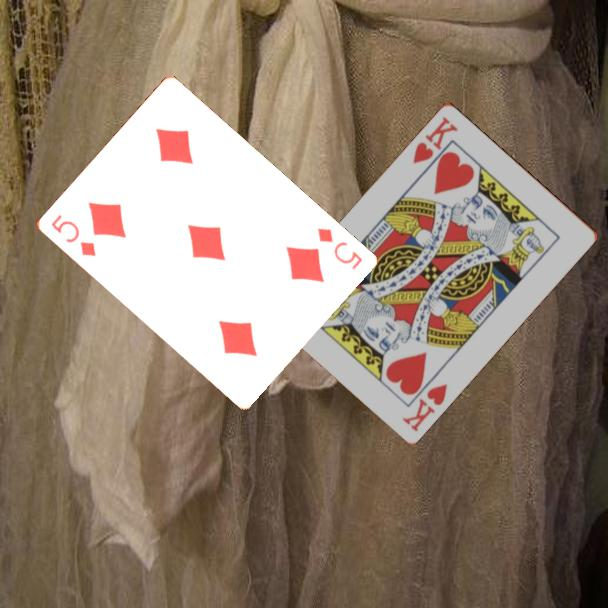d05: (313, 224, 365, 273), (47, 211, 99, 259)
h13: (409, 112, 461, 167), (398, 380, 450, 434)
